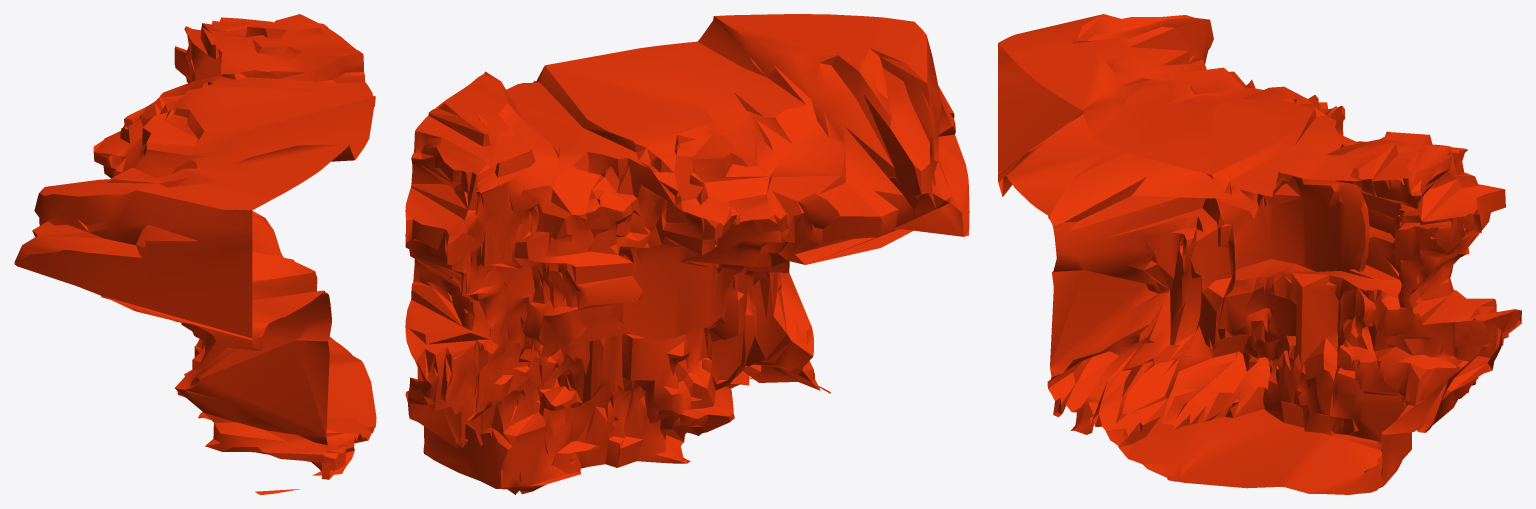
The model's file is canyon_rock_wall_05.fbx.
3 views of the same model, side by side, from view 1: azimuth 30°, elevation 25°; view 2: azimuth 150°, elevation 25°; view 3: azimuth 270°, elevation 25° (orthographic). The views are drawn at different scales.
Parts seen in each view (by area): view 1: Circle.014; view 2: Circle.014; view 3: Circle.014.
Boxes of the visible parts, box(x1,y1,x2,y2) form: Circle.014: box(14, 14, 376, 494); Circle.014: box(405, 14, 969, 494); Circle.014: box(998, 14, 1521, 494).
Size of the model in its own units: 3487 by 2770 by 3897.
